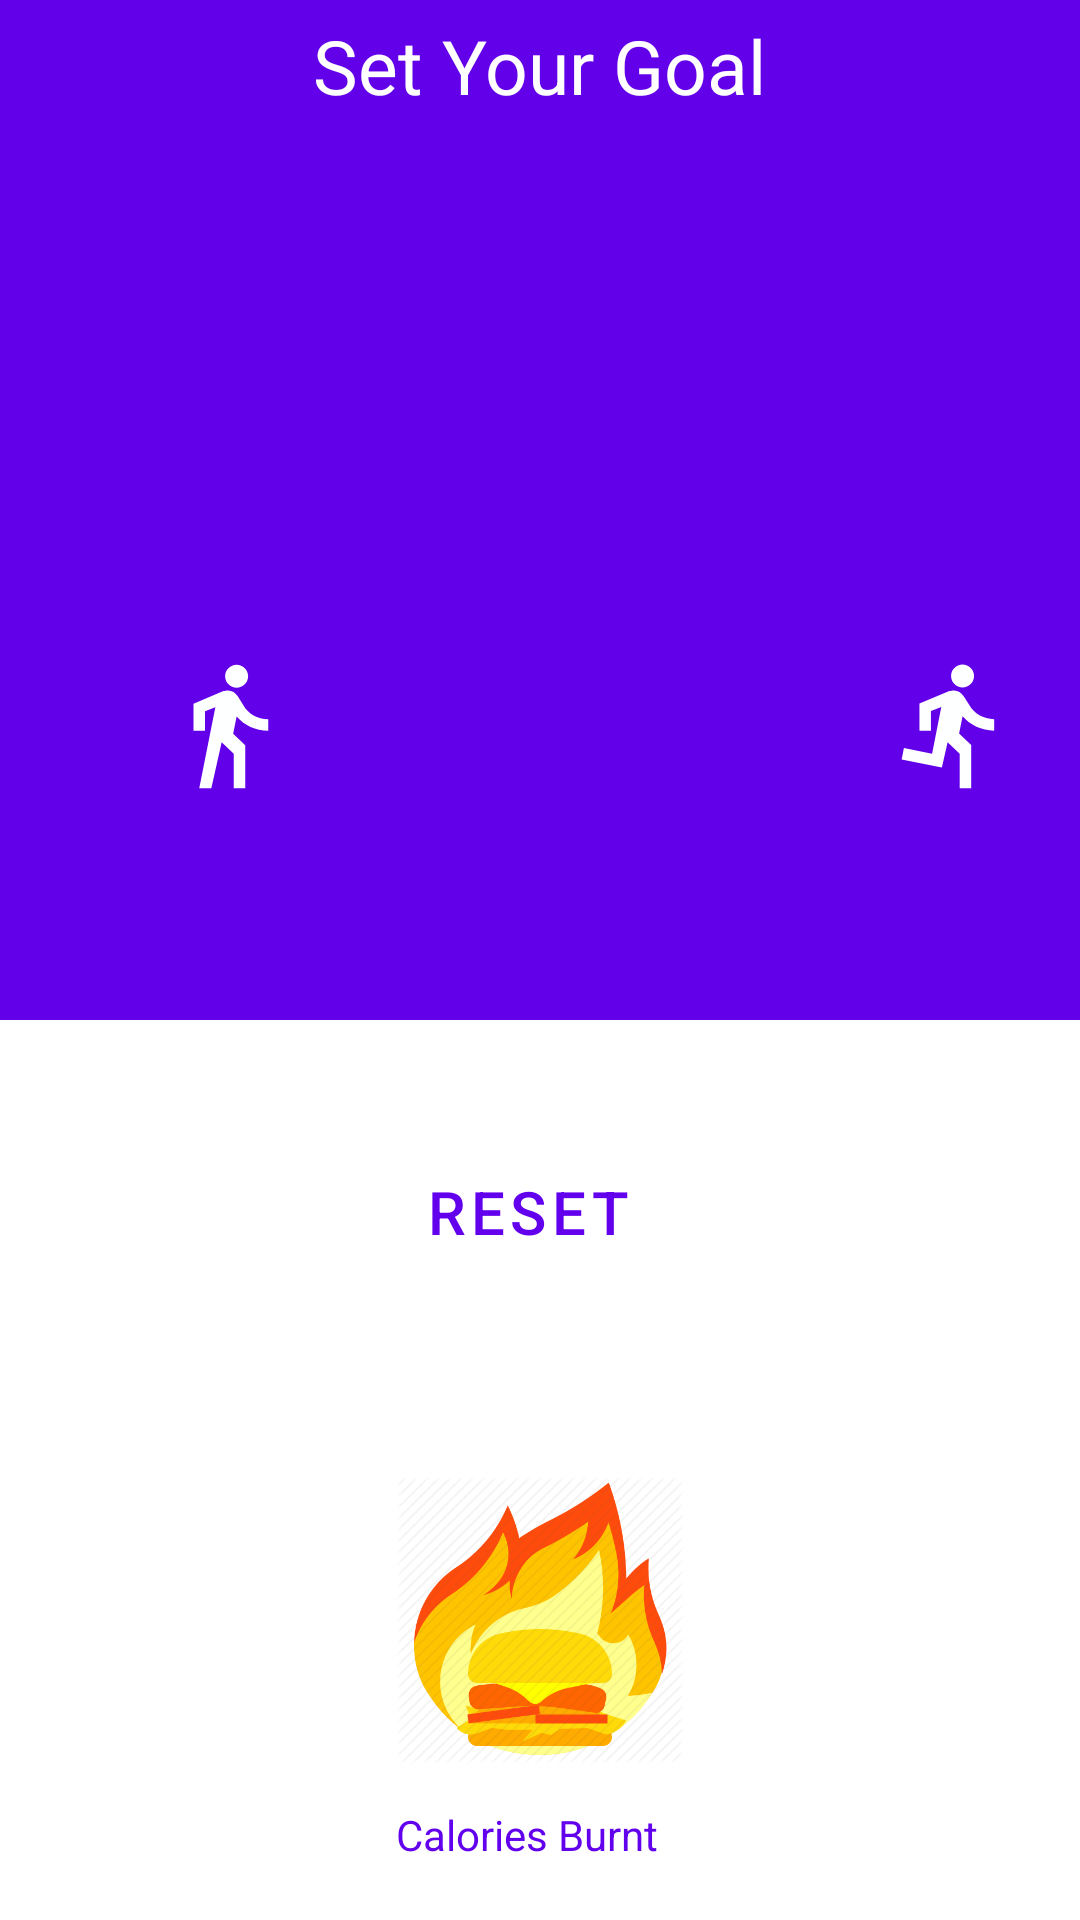

Icon bounding boxes for this 1080 × 1920 phone screenshot, format {"x1": x1, "y1": y1, "x2": x2, "y2": y2}:
run: {"x1": 901, "y1": 664, "x2": 995, "y2": 789}
walk: {"x1": 193, "y1": 664, "x2": 269, "y2": 789}
